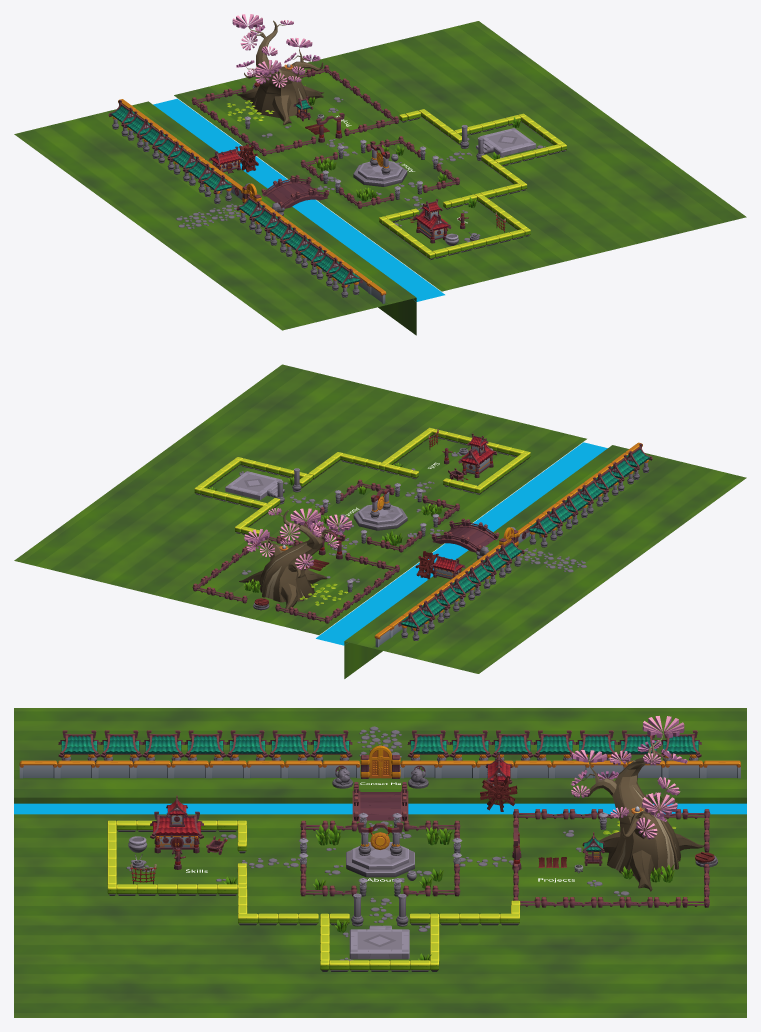
The picture shows the model from 3 angles, top to bottom: view 1: azimuth 30°, elevation 25°; view 2: azimuth 150°, elevation 25°; view 3: azimuth 270°, elevation 25°; orthographic projection. The views are drawn at different scales.
Visible parts, largest first — view 1: Level, gong; view 2: Level, gong; view 3: Level, gong, statue_frog.
Boxes of the visible parts, bbox=[...] form: Level: bbox=[14, 14, 746, 335]; gong: bbox=[353, 141, 407, 186]; Level: bbox=[14, 364, 746, 678]; gong: bbox=[353, 484, 407, 530]; Level: bbox=[14, 708, 746, 1017]; gong: bbox=[346, 822, 414, 877]; statue_frog: bbox=[332, 768, 428, 788].
Size of the model in its own units: 64 by 16.56 by 64.
6 materials, 4 textured.
